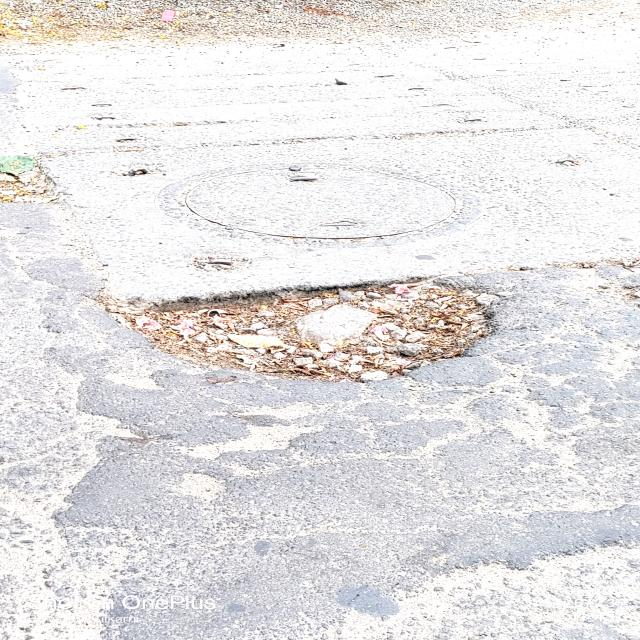potholes: (155, 274, 499, 373)
